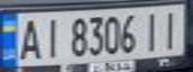0: (103, 12, 124, 55)
3: (84, 14, 106, 56)
6: (118, 11, 142, 55)
8: (66, 14, 90, 57)
A: (12, 15, 45, 61)
I: (39, 15, 66, 60), (157, 7, 184, 51), (139, 8, 166, 52)
